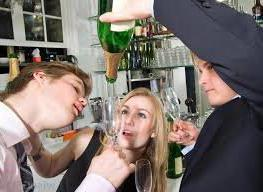Drunk: (54, 71, 88, 126), (118, 98, 153, 149)
